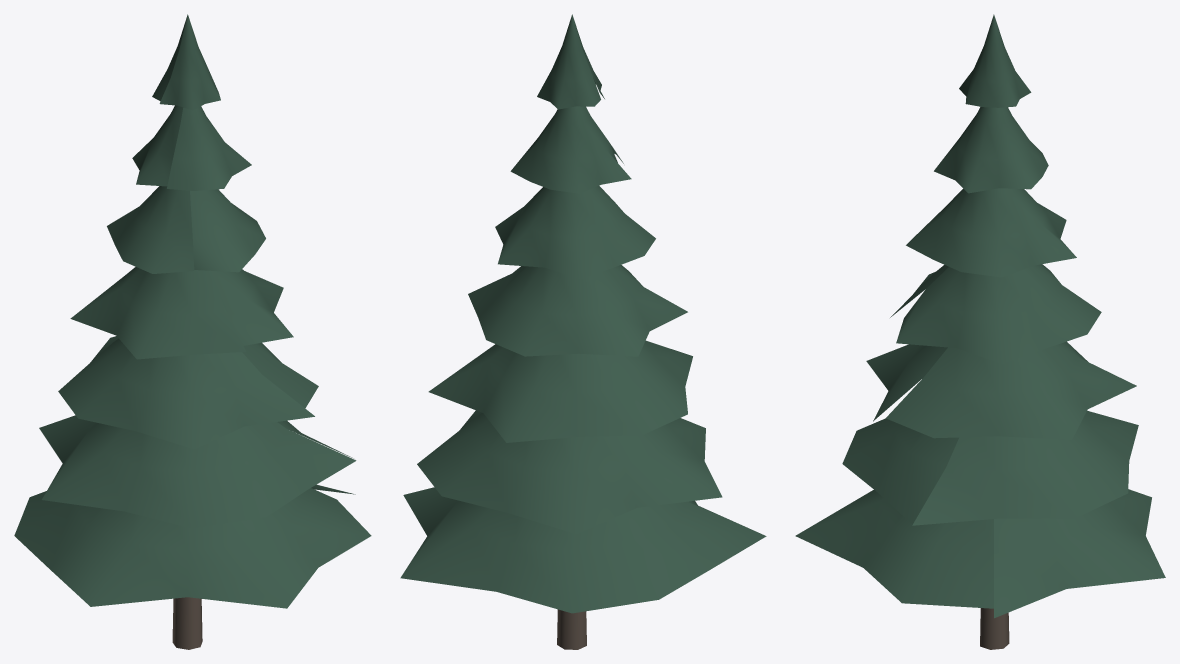
Rendered from pine.glb.
3 views of the same model, side by side, from view 1: azimuth 30°, elevation 25°; view 2: azimuth 150°, elevation 25°; view 3: azimuth 270°, elevation 25° (orthographic).
Parts seen in each view (by area): view 1: Pine; view 2: Pine; view 3: Pine.
Boxes of the visible parts, x1,y1,x2,y2 form: Pine: (14,14,371,649); Pine: (400,14,766,649); Pine: (795,14,1165,649).
Size of the model in its own units: 6.17 by 11.7 by 6.25.
